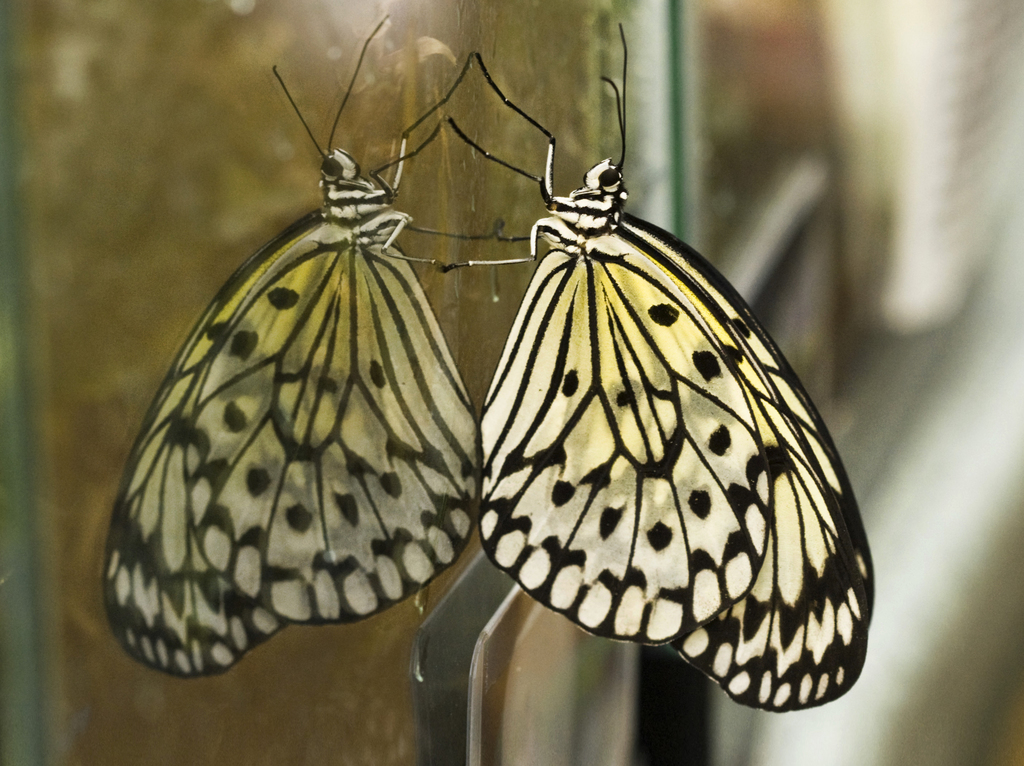Butterfly: (470, 61, 885, 724)
